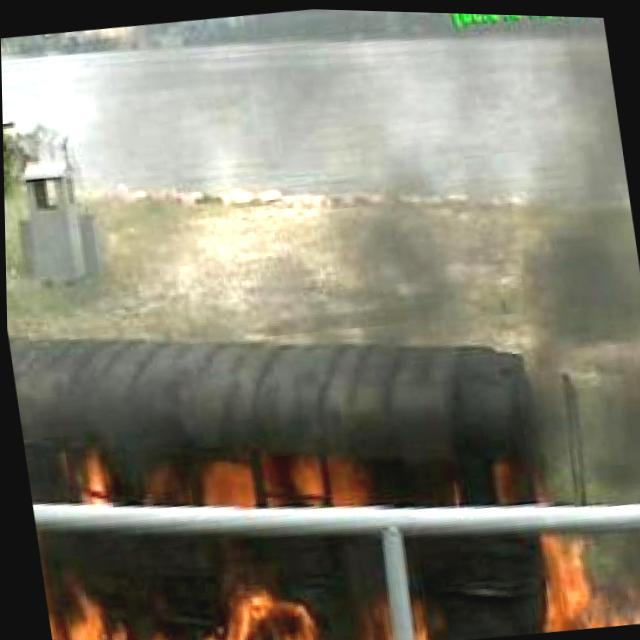Fire: (41, 564, 315, 640), (166, 440, 369, 522), (531, 514, 640, 631), (460, 463, 552, 513), (357, 595, 430, 640)
Smoke: (67, 2, 640, 499)
